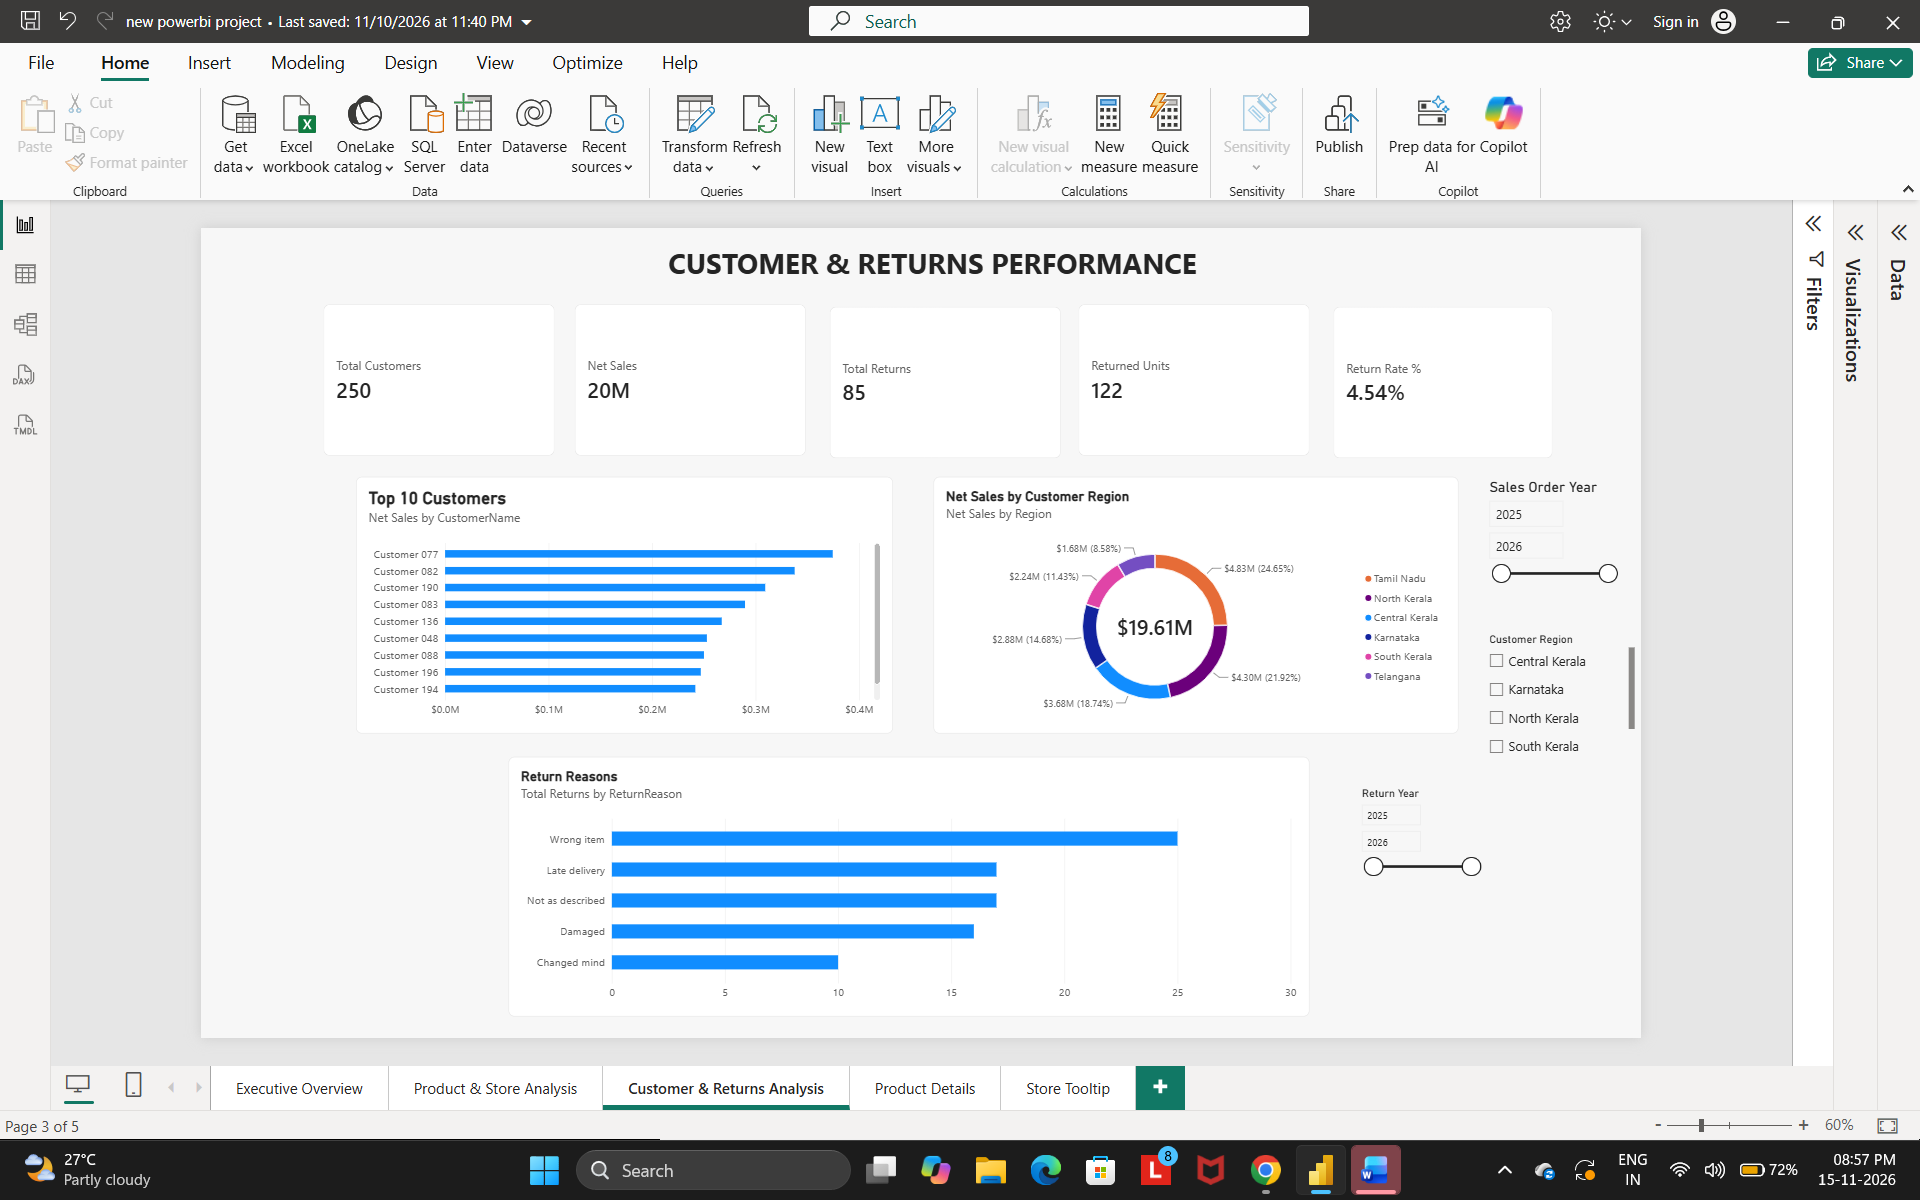

What the dashboard file says about the page in this screenshot:
{"tool":"powerbi","page":{"name":"Customer & Returns Analysis","canvas":[1920,1080],"ordinal":2},"visuals":[{"type":"textbox","box":[564,22,824,64],"z":0},{"type":"barChart","title":"Top 10 Customers","fields":{"Category":["Customers.CustomerName"],"Y":["Sales.Net Sales"]},"box":[206,332,716,342],"z":1000},{"type":"donutChart","title":"Net Sales by Customer Region ","fields":{"Category":["Customers.Region"],"Y":["Sales.Net Sales"]},"box":[1038,332,700,342],"z":2000},{"type":"barChart","title":"Return Reasons","fields":{"Category":["Returns.ReturnReason"],"Y":["Returns.Total Returns"]},"box":[390,694,1068,346],"z":3000},{"type":"cardVisual","fields":{"Data":["Customers.Total Customers"]},"box":[163.3,101.7,308,202],"z":4000},{"type":"cardVisual","title":"Total Sales","fields":{"Data":["Sales.Net Sales"]},"box":[498.3,101.7,308,202],"z":5000},{"type":"cardVisual","fields":{"Data":["Returns.Total Returns"]},"box":[838.3,105,308,202],"z":6000},{"type":"cardVisual","fields":{"Data":["Returns.Returned Units"]},"box":[1170,101.7,308,202],"z":7000},{"type":"slicer","fields":{"Values":["Date Table.Year"]},"box":[1510,728.3,182,168],"z":8000},{"type":"cardVisual","title":"Returned Units % of Units Sold","fields":{"Data":["Returns.Return Rate %"]},"box":[1510,105,292,202],"z":9000},{"type":"slicer","fields":{"Values":["Customers.Region"]},"box":[1526.7,883.3,260,176.7],"z":9001}]}

Visuals, with their boxes on the page's 1920x1080 design canvas (x1, y1, x2, y2). These are canvas units, not pixel positions in the 1920x1200 screenshot, which may show the page scaled, cropped or inside an application window:
textbox: (564,22,1388,86)
"Top 10 Customers" barChart: (206,332,922,674)
"Net Sales by Customer Region " donutChart: (1038,332,1738,674)
"Return Reasons" barChart: (390,694,1458,1040)
cardVisual - Customers.Total Customers: (163,102,471,304)
"Total Sales" cardVisual: (498,102,806,304)
cardVisual - Returns.Total Returns: (838,105,1146,307)
cardVisual - Returns.Returned Units: (1170,102,1478,304)
slicer - Date Table.Year: (1510,728,1692,896)
"Returned Units % of Units Sold" cardVisual: (1510,105,1802,307)
slicer - Customers.Region: (1527,883,1787,1060)
